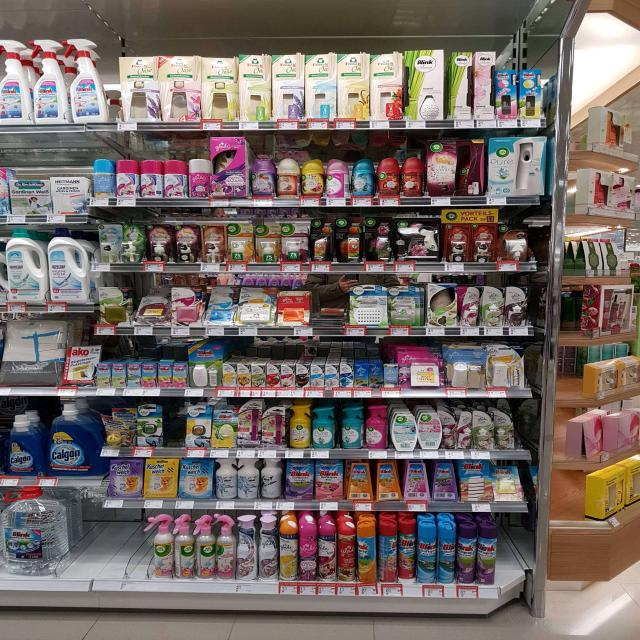empty: (45, 501, 163, 574), (497, 505, 537, 590), (307, 275, 351, 336)
